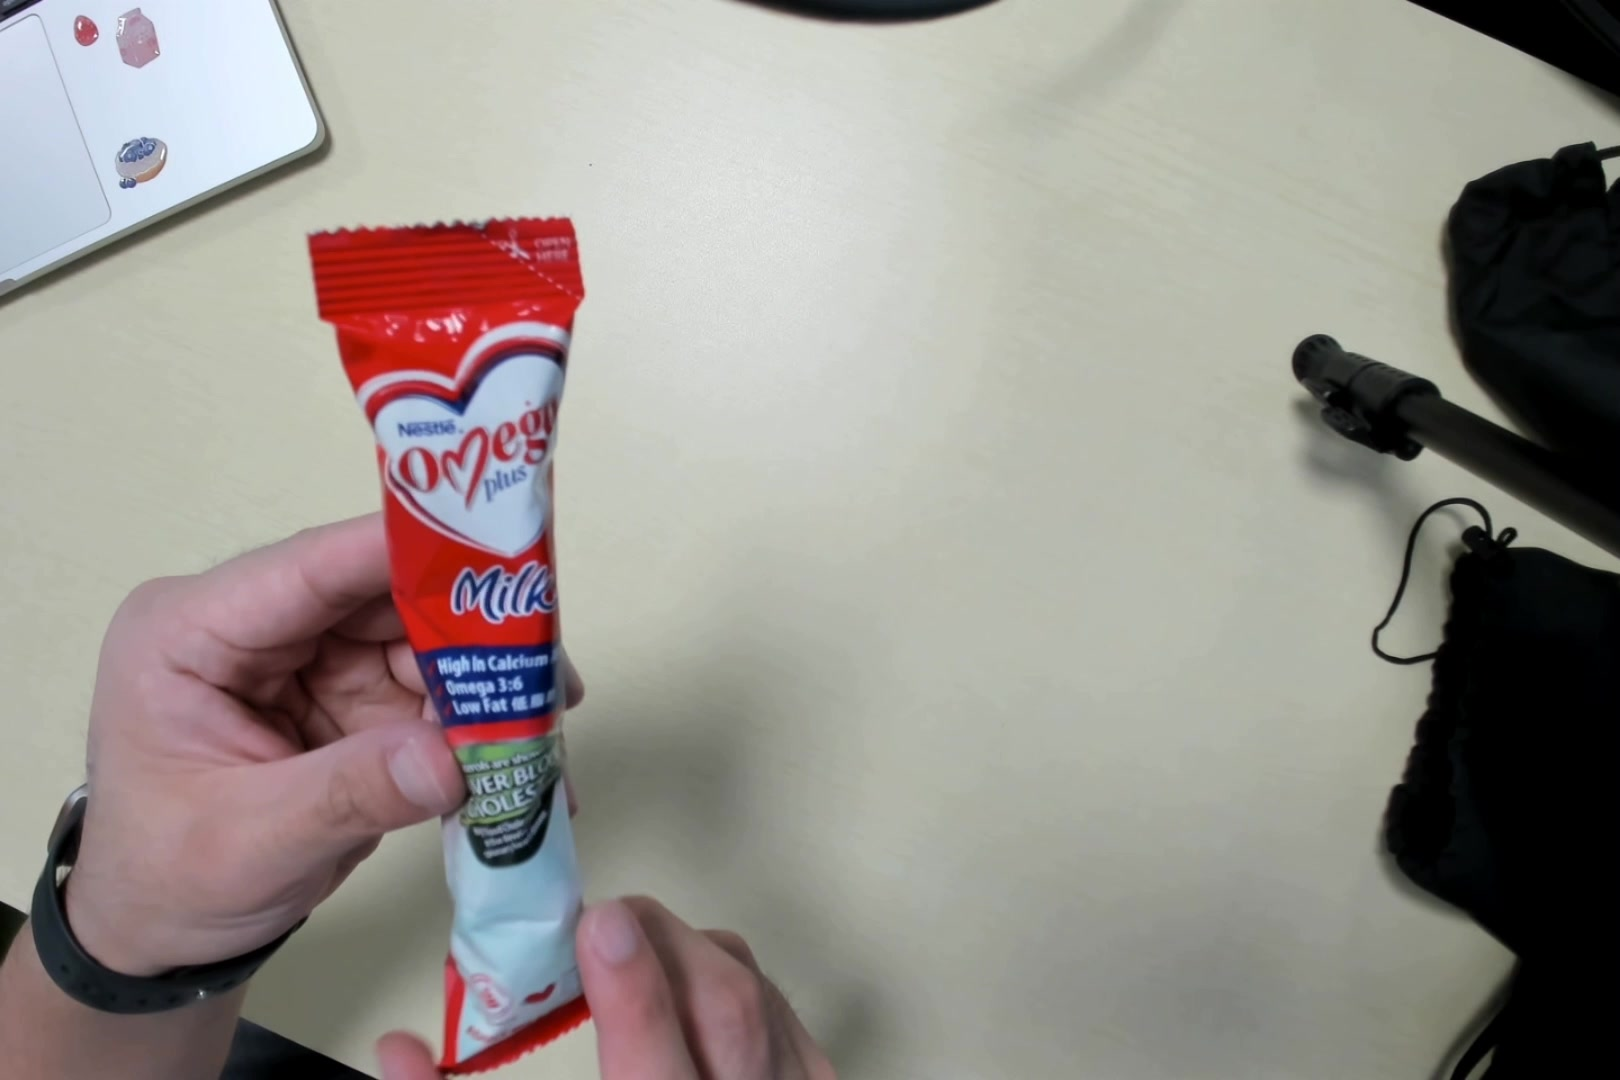MilkPowder_0-99g_Halal_NonHealthy: (356, 219, 604, 1080)
